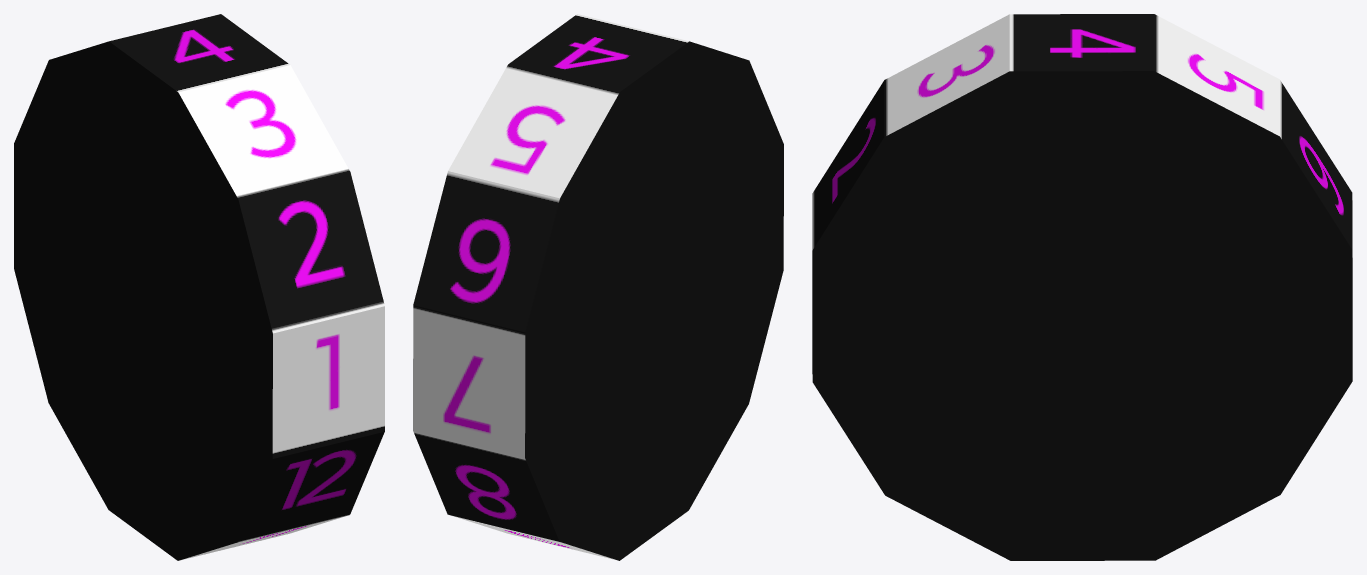
The model's file is reel.glb.
The picture shows the model from 3 angles, left to right: view 1: azimuth 30°, elevation 25°; view 2: azimuth 150°, elevation 25°; view 3: azimuth 270°, elevation 25°; orthographic projection. The views are drawn at different scales.
Parts seen in each view (by area): view 1: Circle; view 2: Circle; view 3: Circle.
Part boxes in pixels (box(x1,y1,x2,y2)): Circle: box(14, 14, 384, 560); Circle: box(413, 14, 783, 560); Circle: box(812, 14, 1352, 560).
Size of the model in its own units: 0.25 by 1 by 1.
1 material, 1 textured.
